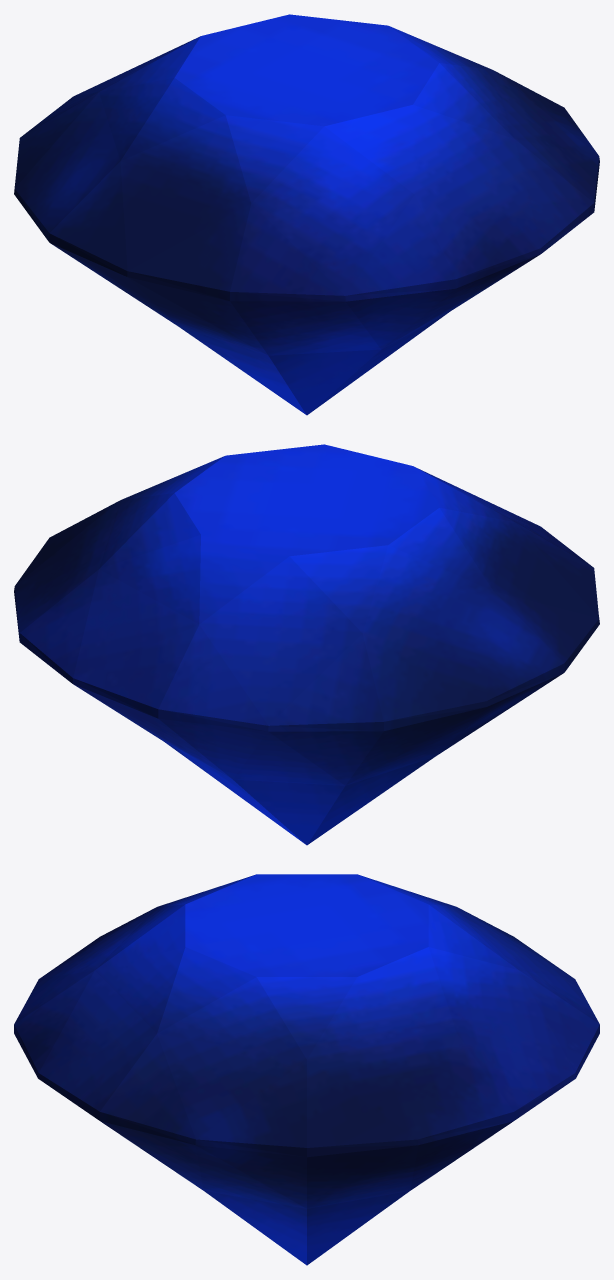
Rendered from Blue Chaos Emerald.obj.
3 renders of one model, top to bottom at view 1: azimuth 30°, elevation 25°; view 2: azimuth 150°, elevation 25°; view 3: azimuth 270°, elevation 25°, orthographic.
Parts seen in each view (by area): view 1: Object01; view 2: Object01; view 3: Object01.
Part boxes in pixels (bbox=[...]): Object01: bbox=[14, 14, 599, 415]; Object01: bbox=[14, 444, 599, 845]; Object01: bbox=[14, 874, 599, 1265].
Bounding box in the file's own units: 151 × 96.96 × 151.
1 material, 1 textured.
